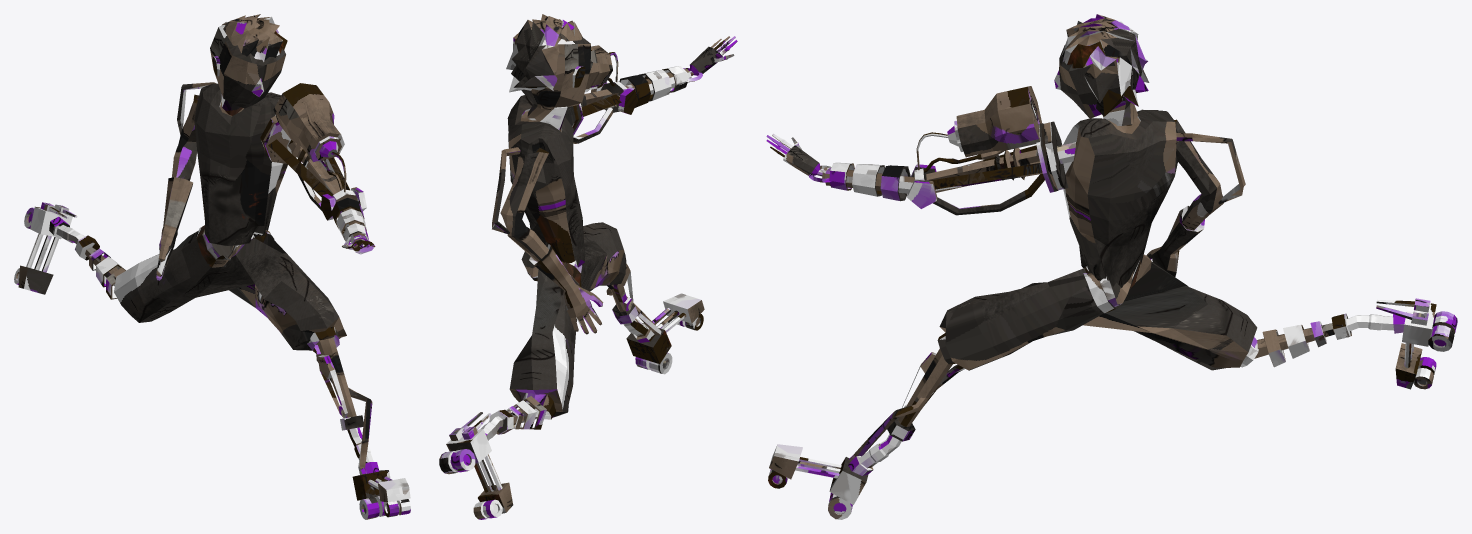
File: CyborgFINALAnimation_000032.obj
3 views of the same model, side by side, from view 1: azimuth 30°, elevation 25°; view 2: azimuth 150°, elevation 25°; view 3: azimuth 270°, elevation 25° (orthographic). The views are drawn at different scales.
Visible parts, largest first — view 1: CyborgMesh_Cube.002; view 2: CyborgMesh_Cube.002; view 3: CyborgMesh_Cube.002.
Boxes of the visible parts, <box> form: CyborgMesh_Cube.002: <box>14,14,410,519</box>; CyborgMesh_Cube.002: <box>439,14,737,519</box>; CyborgMesh_Cube.002: <box>766,14,1457,519</box>.
Size of the model in its own units: 2.81 by 7.86 by 10.16.
